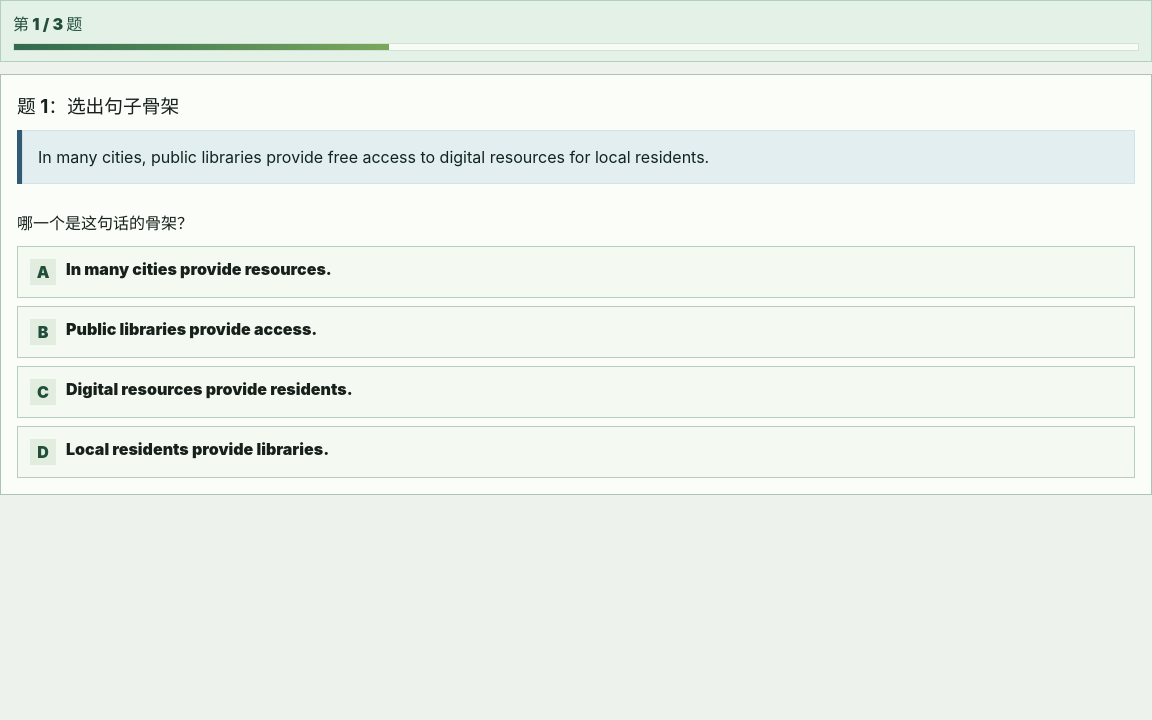
Test case: PracticeQuestionDeck › shows a progress bar and streak feedback after correct answers
Click the button "B Public libraries provide access.": (192,329) [17,306,1135,358]
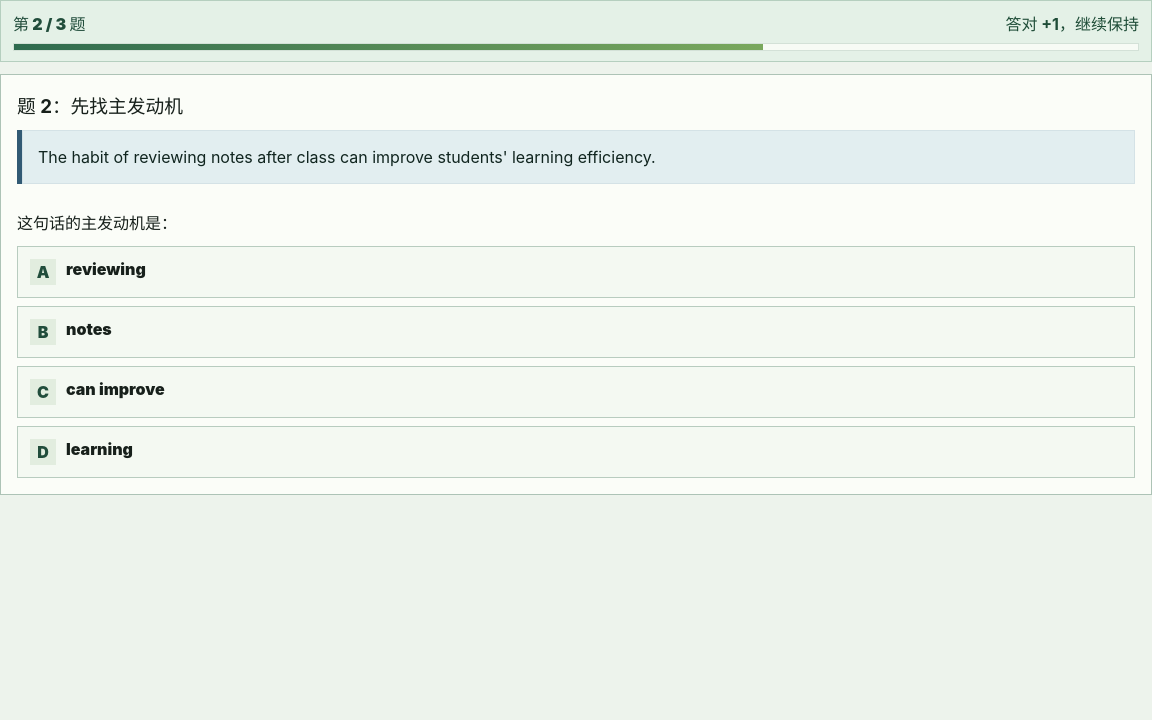
Result: the text "答对 +1" is shown at [1005,14,1139,34]
Result: the heading "题 2：先找主发动机" is shown at [17,91,183,118]
Click the button "C can improve": (115,389) [17,366,1135,418]
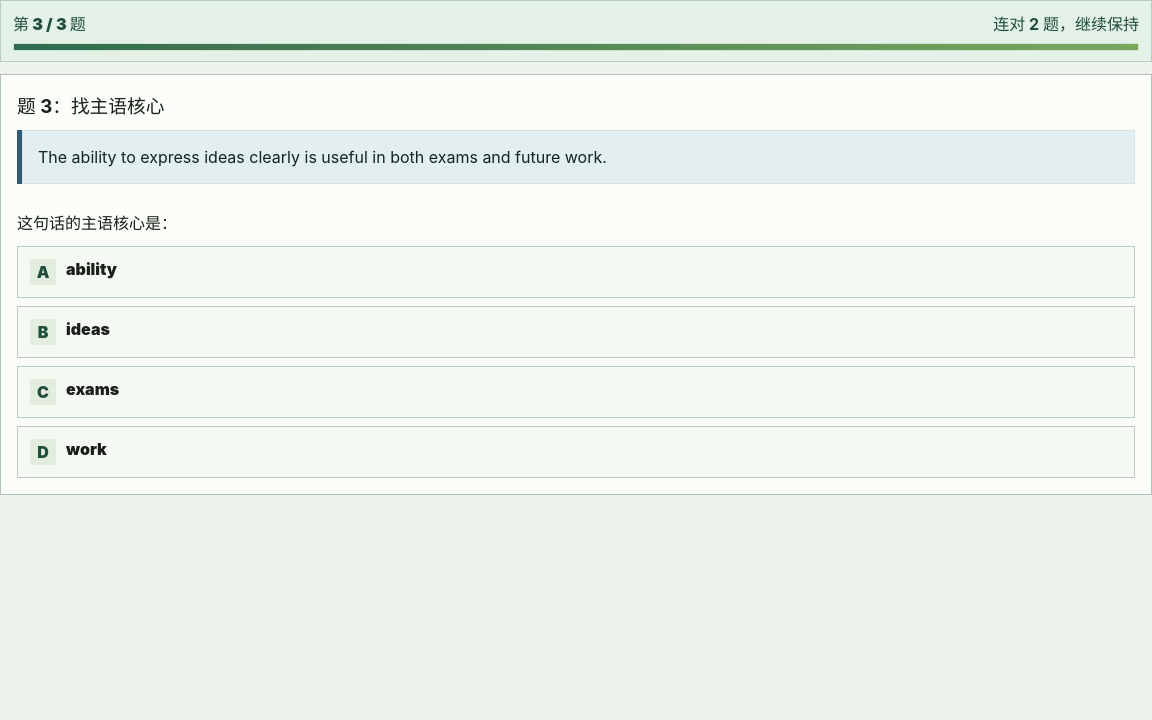
Result: the text "连对 2 题" is shown at [993,14,1139,34]
